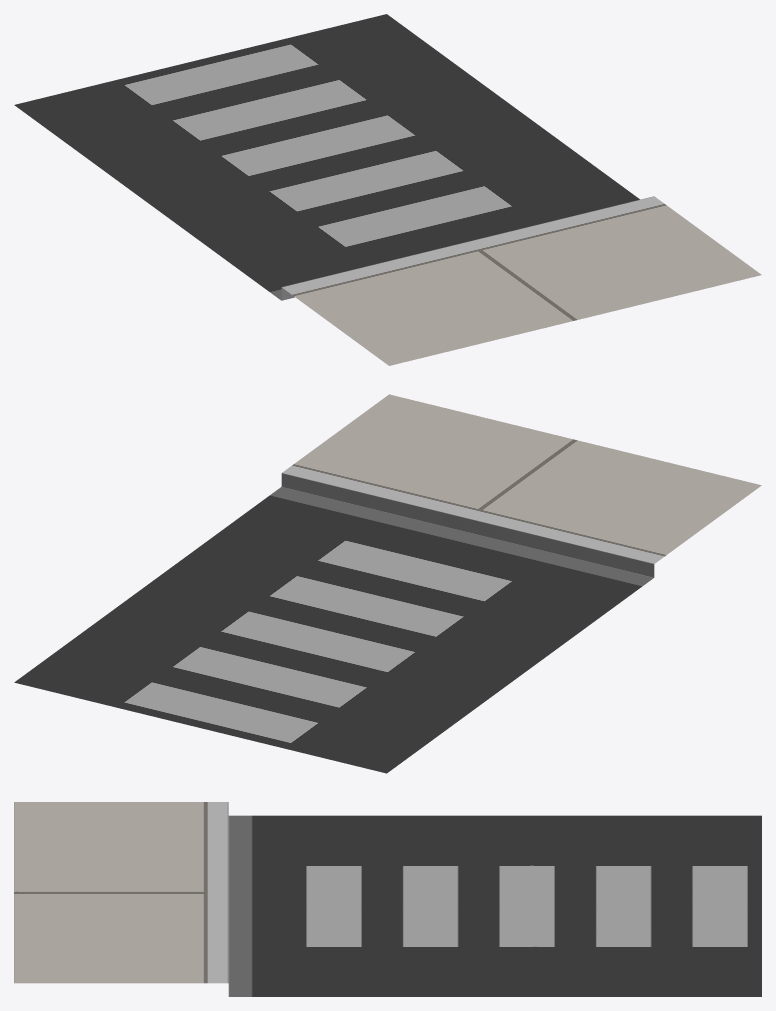
The model's file is road_crossing_mesh.fbx.
The picture shows the model from 3 angles, top to bottom: view 1: azimuth 30°, elevation 25°; view 2: azimuth 150°, elevation 25°; view 3: azimuth 270°, elevation 25°; orthographic projection.
Visible parts, largest first — view 1: Road_crossing_mesh; view 2: Road_crossing_mesh; view 3: Road_crossing_mesh.
Part boxes in pixels (x1,y1,x2,y2): Road_crossing_mesh: (14,14,761,365); Road_crossing_mesh: (14,394,761,773); Road_crossing_mesh: (14,802,761,996).
Bounding box in the file's own units: 5.59 × 0.1948 × 9.75.
Materials: 1 (1 with a texture image).
